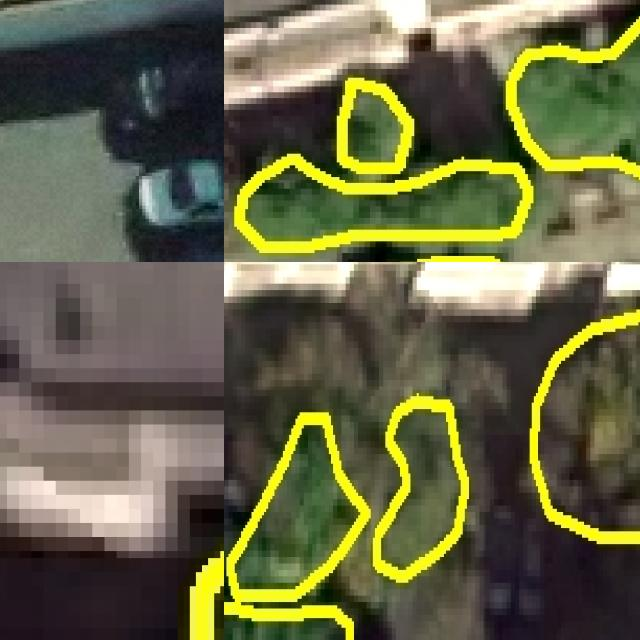trees: (225, 417, 368, 640), (235, 158, 532, 248), (533, 314, 640, 539), (510, 19, 640, 177), (376, 397, 466, 577), (341, 82, 410, 172)
